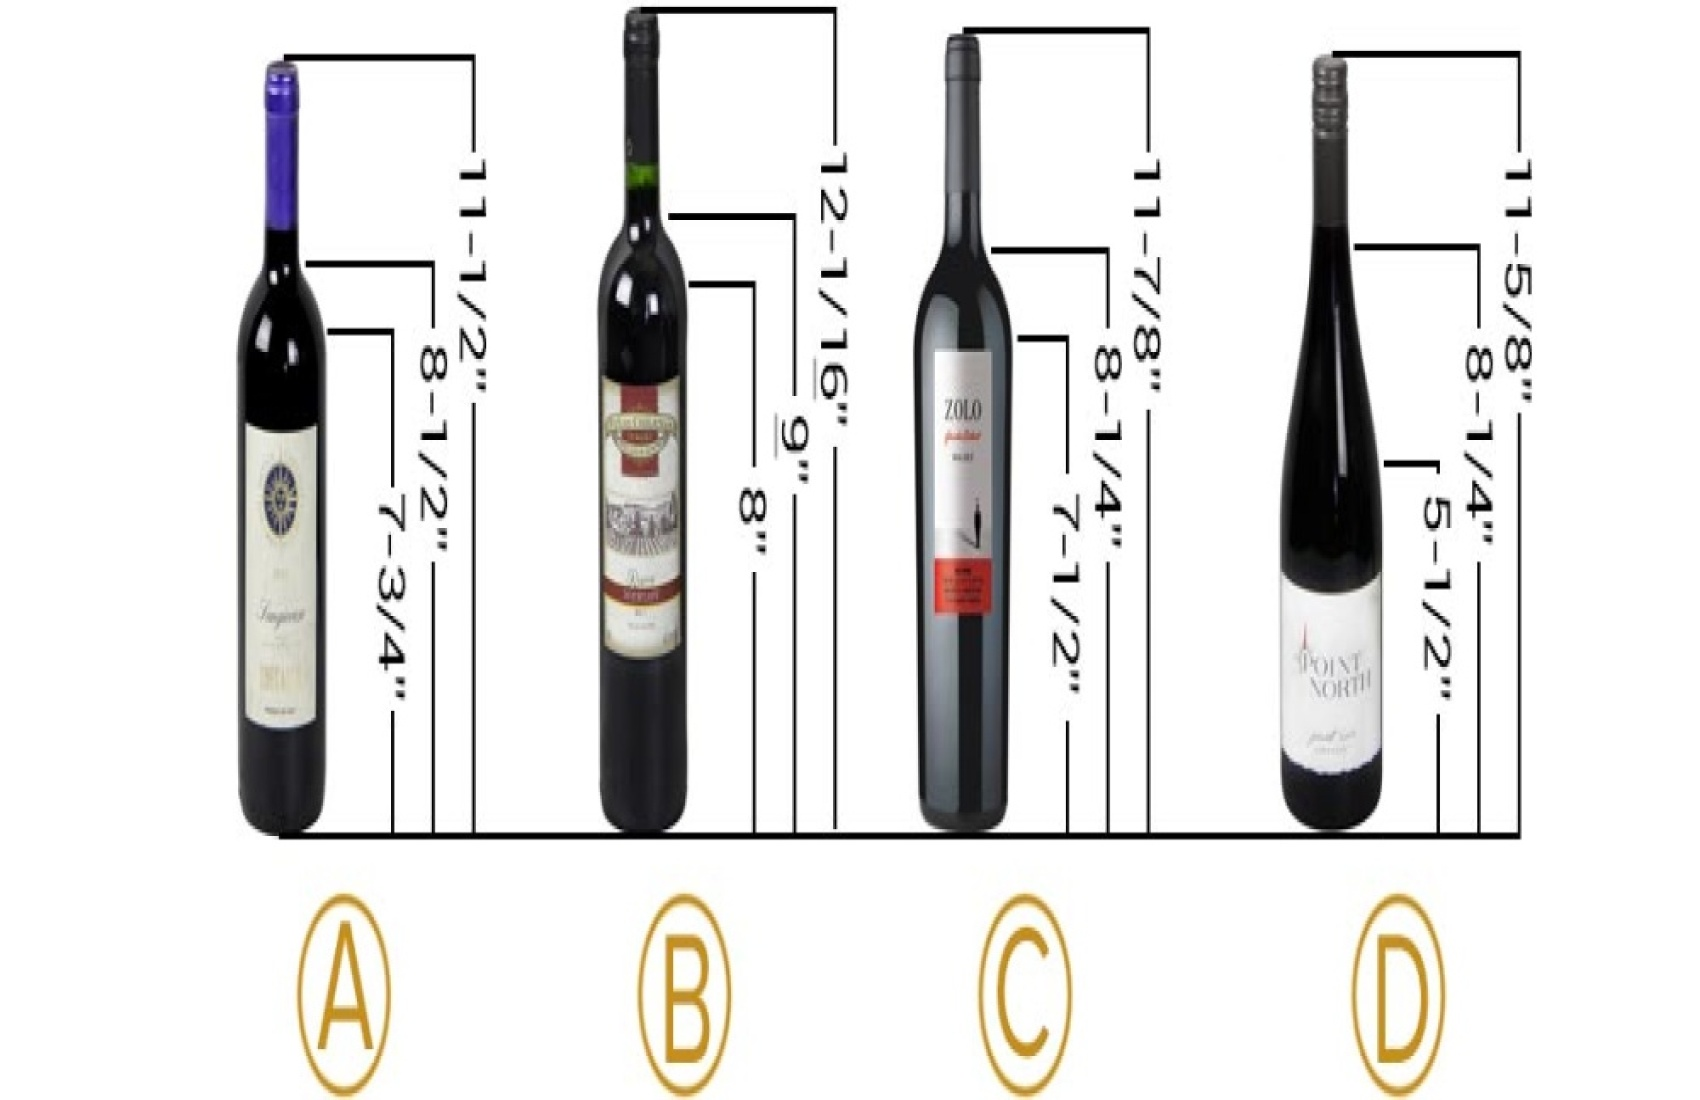wine: (1285, 50, 1380, 827), (239, 62, 322, 842), (602, 52, 685, 832), (926, 45, 1009, 824)
